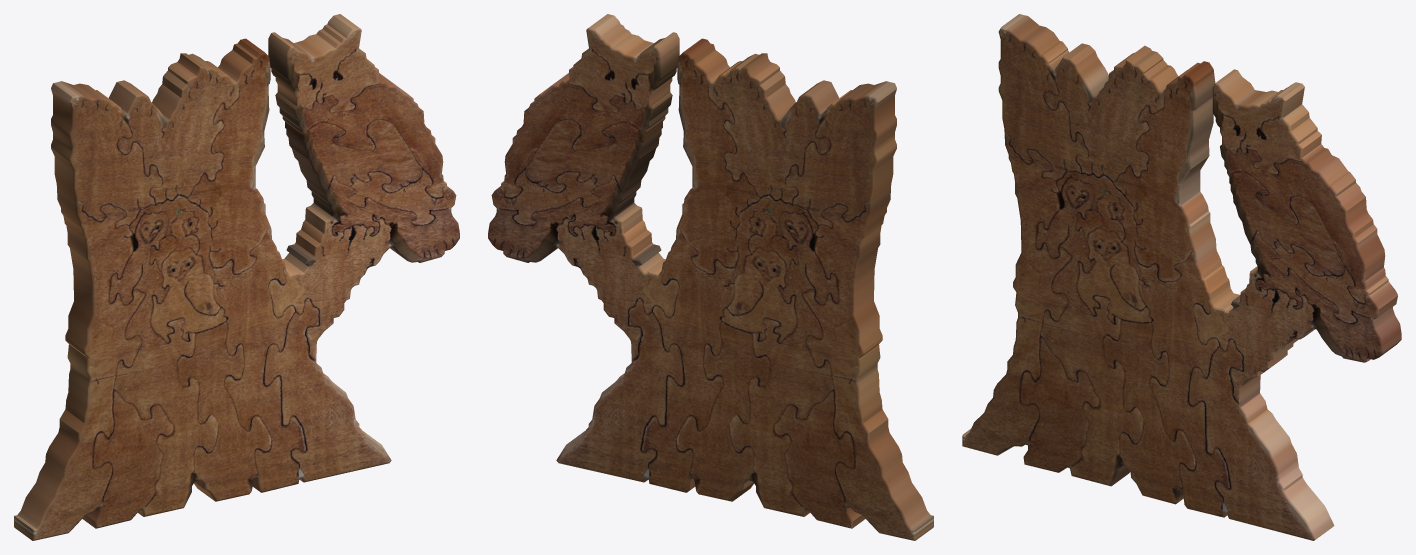
The model's file is owl-tree.glb.
3 views of the same model, side by side, from view 1: azimuth 30°, elevation 25°; view 2: azimuth 150°, elevation 25°; view 3: azimuth 330°, elevation 25° (orthographic).
Parts seen in each view (by area): view 1: Owl and tree puzzle; view 2: Owl and tree puzzle; view 3: Owl and tree puzzle.
Part boxes in pixels (left/top/right/bottom): Owl and tree puzzle: left=14, top=14, right=459, bottom=540; Owl and tree puzzle: left=488, top=14, right=933, bottom=540; Owl and tree puzzle: left=962, top=14, right=1401, bottom=540.
Size of the model in its own units: 0.2593 by 0.2576 by 0.0214.
Materials: 1 (1 with a texture image).
